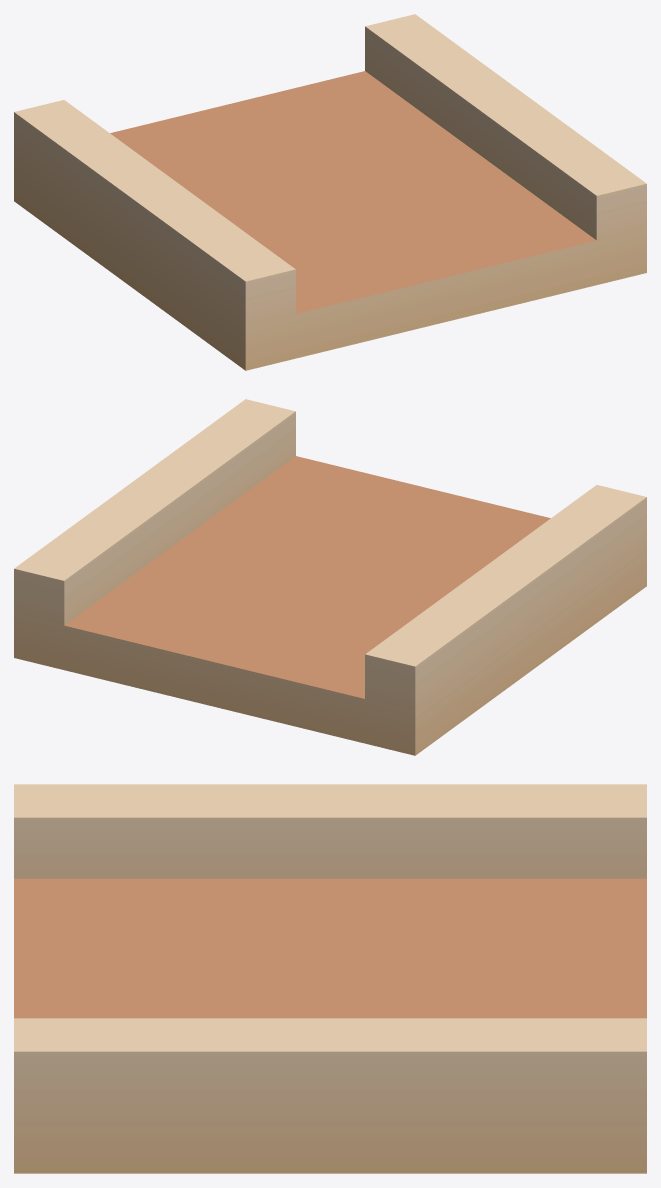
The model's file is roof-flat-border-straight.glb.
3 renders of one model, top to bottom at view 1: azimuth 30°, elevation 25°; view 2: azimuth 150°, elevation 25°; view 3: azimuth 270°, elevation 25°, orthographic. The views are drawn at different scales.
Parts seen in each view (by area): view 1: roof-flat-border-straight; view 2: roof-flat-border-straight; view 3: roof-flat-border-straight.
Part boxes in pixels (x1=…): roof-flat-border-straight: x1=14, y1=14, x2=646, y2=370; roof-flat-border-straight: x1=14, y1=399, x2=646, y2=755; roof-flat-border-straight: x1=14, y1=784, x2=646, y2=1173.
Bounding box in the file's own units: 1 × 0.2125 × 1.
Materials: 1 (1 with a texture image).
